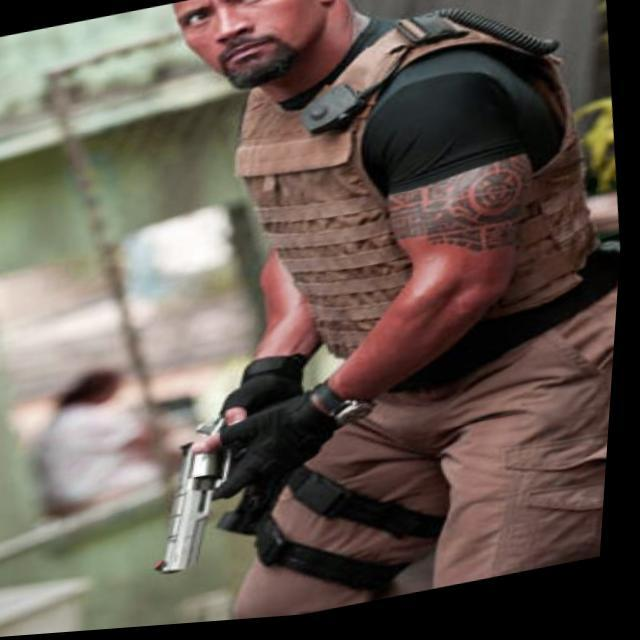weapon: (142, 415, 254, 581)
